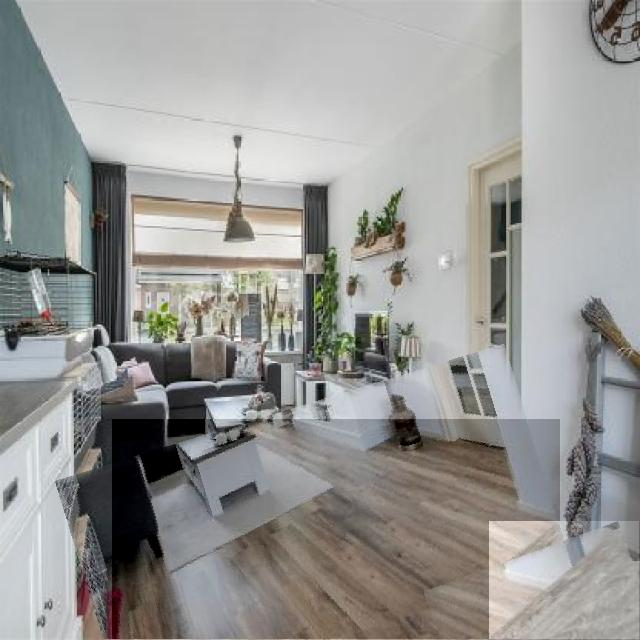floor: (112, 420, 560, 640), (489, 521, 640, 640)
